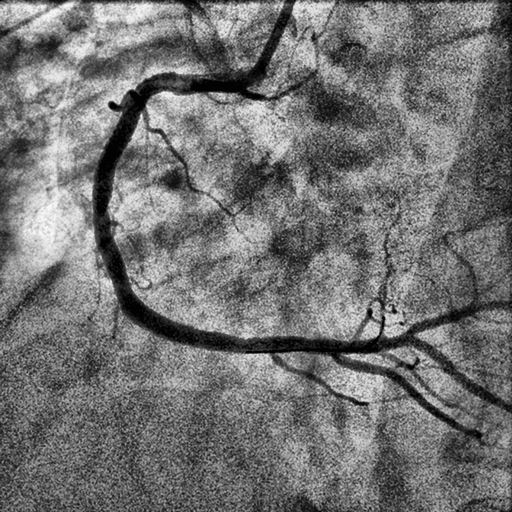pborca: (336, 300, 498, 353)
pda: (331, 353, 483, 438)
rca: (93, 70, 338, 355)
